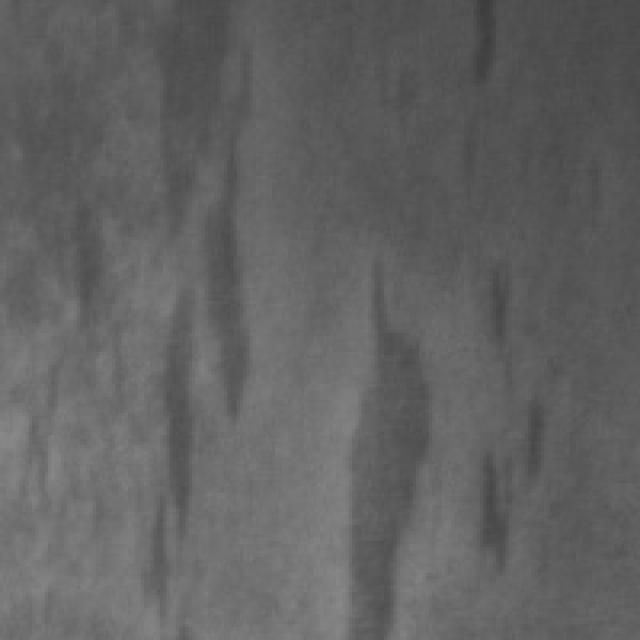inclusion: (128, 0, 259, 435), (333, 234, 438, 630), (141, 272, 205, 621), (458, 381, 547, 576), (48, 185, 115, 358), (471, 252, 518, 393), (460, 0, 506, 93)
